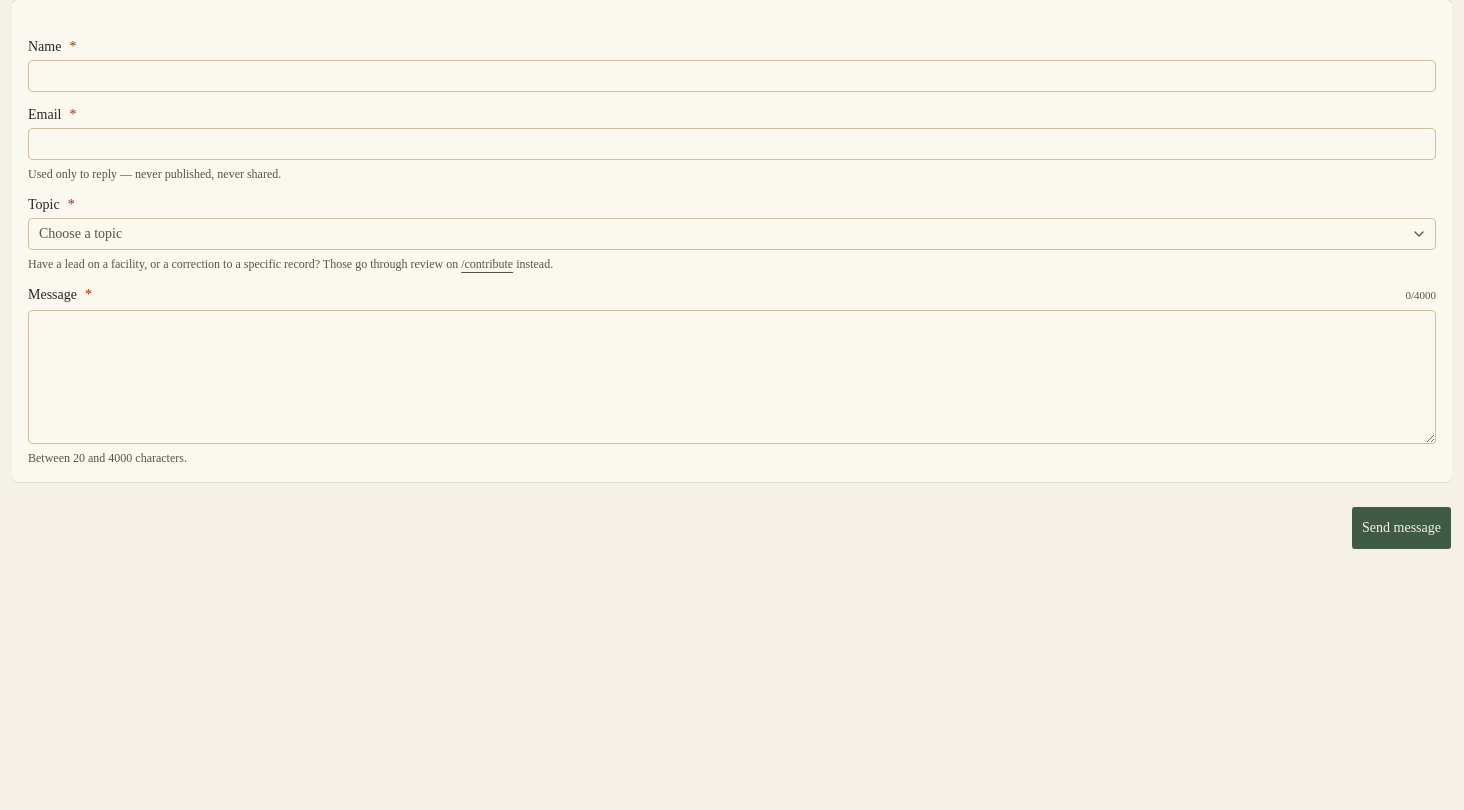
Test: ContactForm — submit outcomes › surfaces the rate-limit message from a 429 response
Type "Jane Reporter" into the field labelled "Name *". click: (732, 76)
box: [28,60,1436,92]
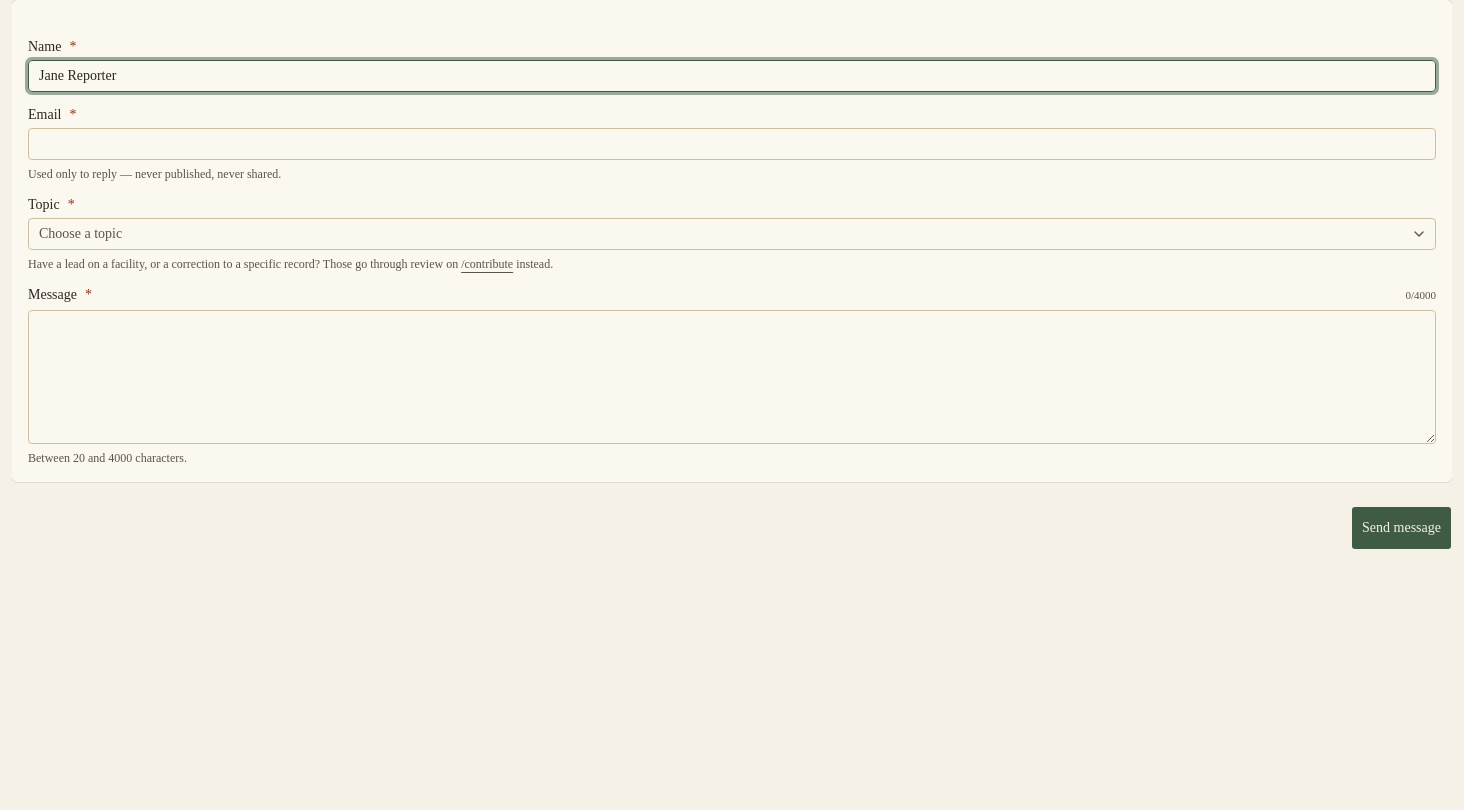
Type "jane@example.com" into the field labelled "Email *". click: (732, 144)
box: [28,128,1436,160]
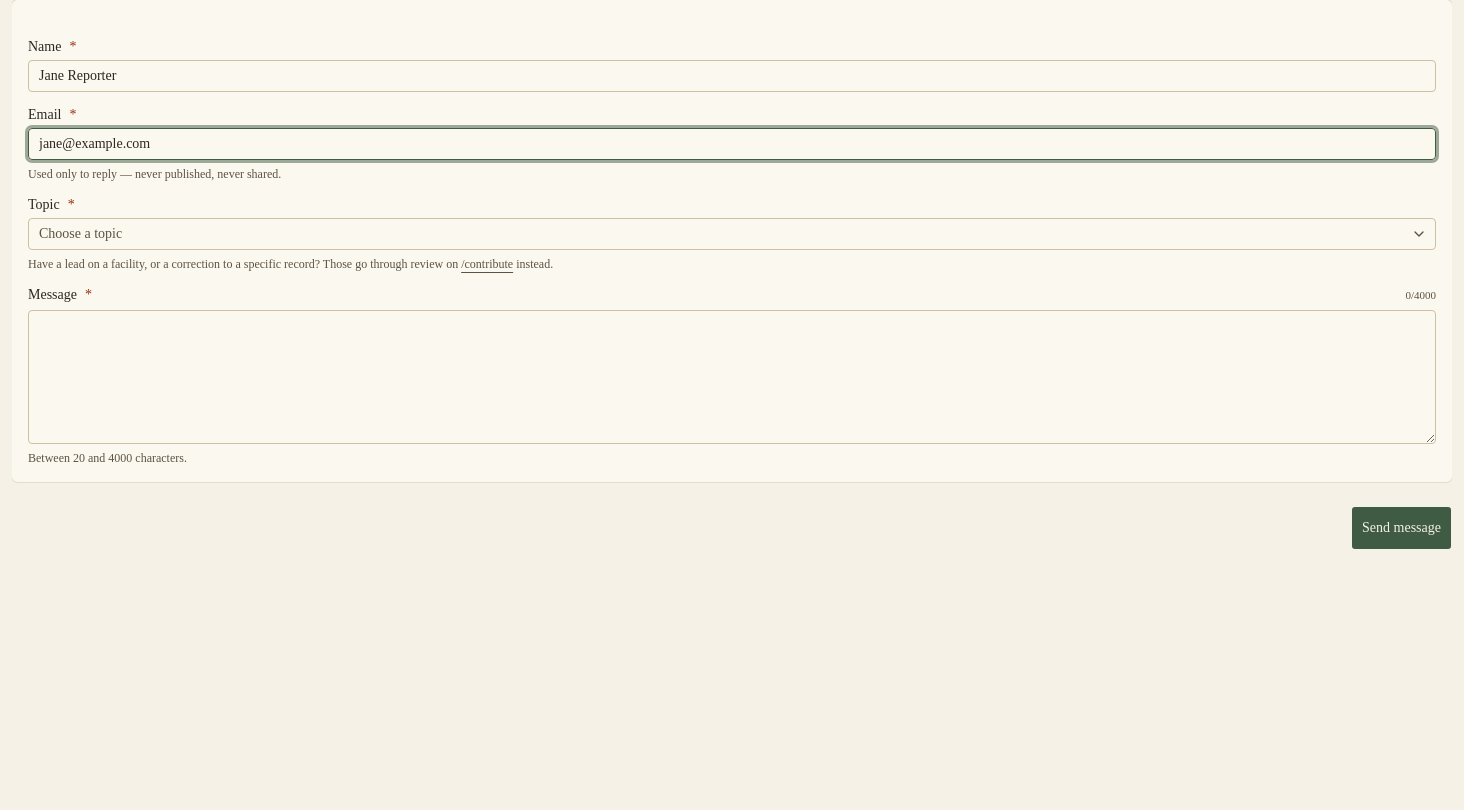
Click the dropdown labelled "Choose a topic ▼". click: click(81, 234)
box: [28,218,1436,250]
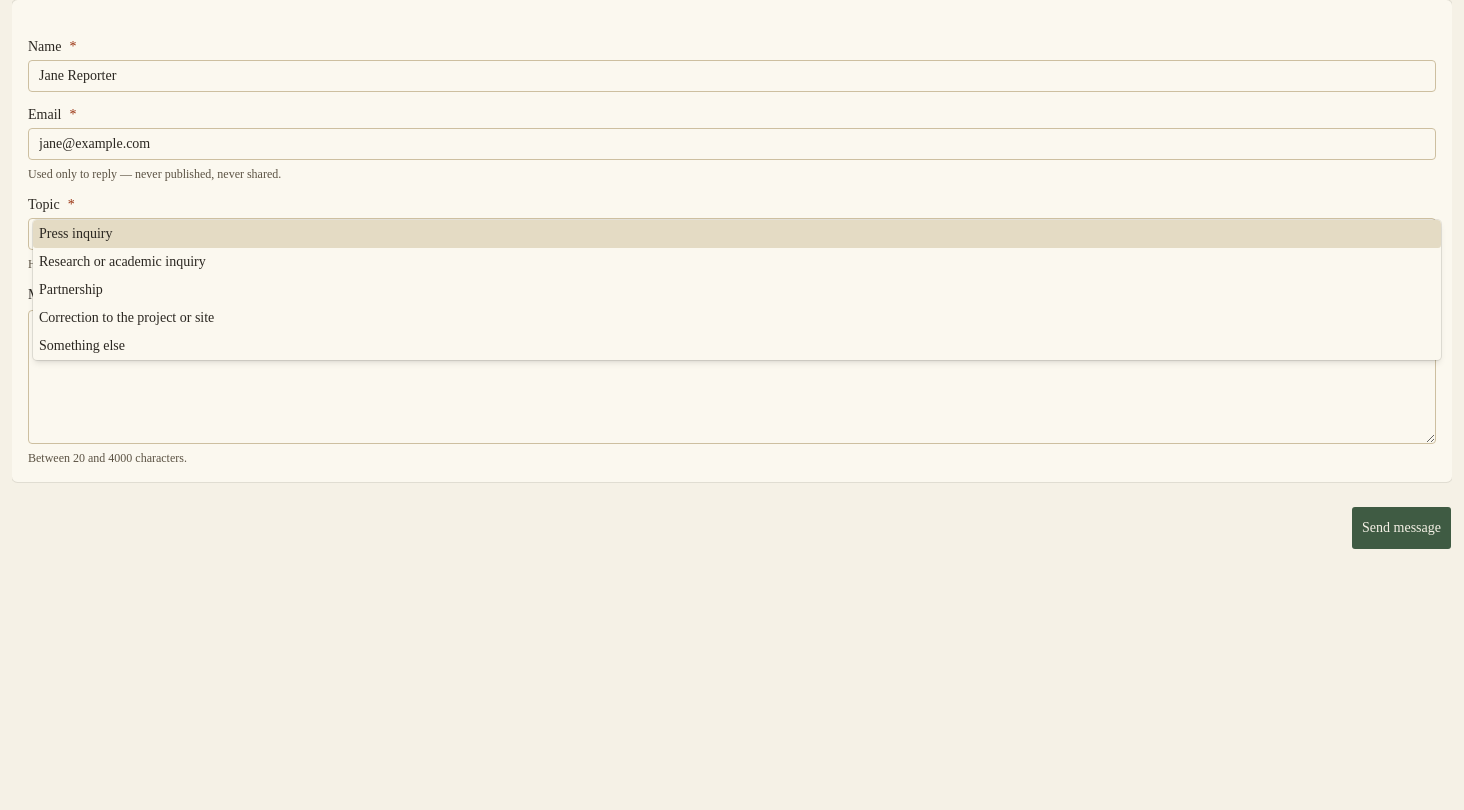
Click the option "Press inquiry". click: click(76, 234)
box: [33,220,1441,248]
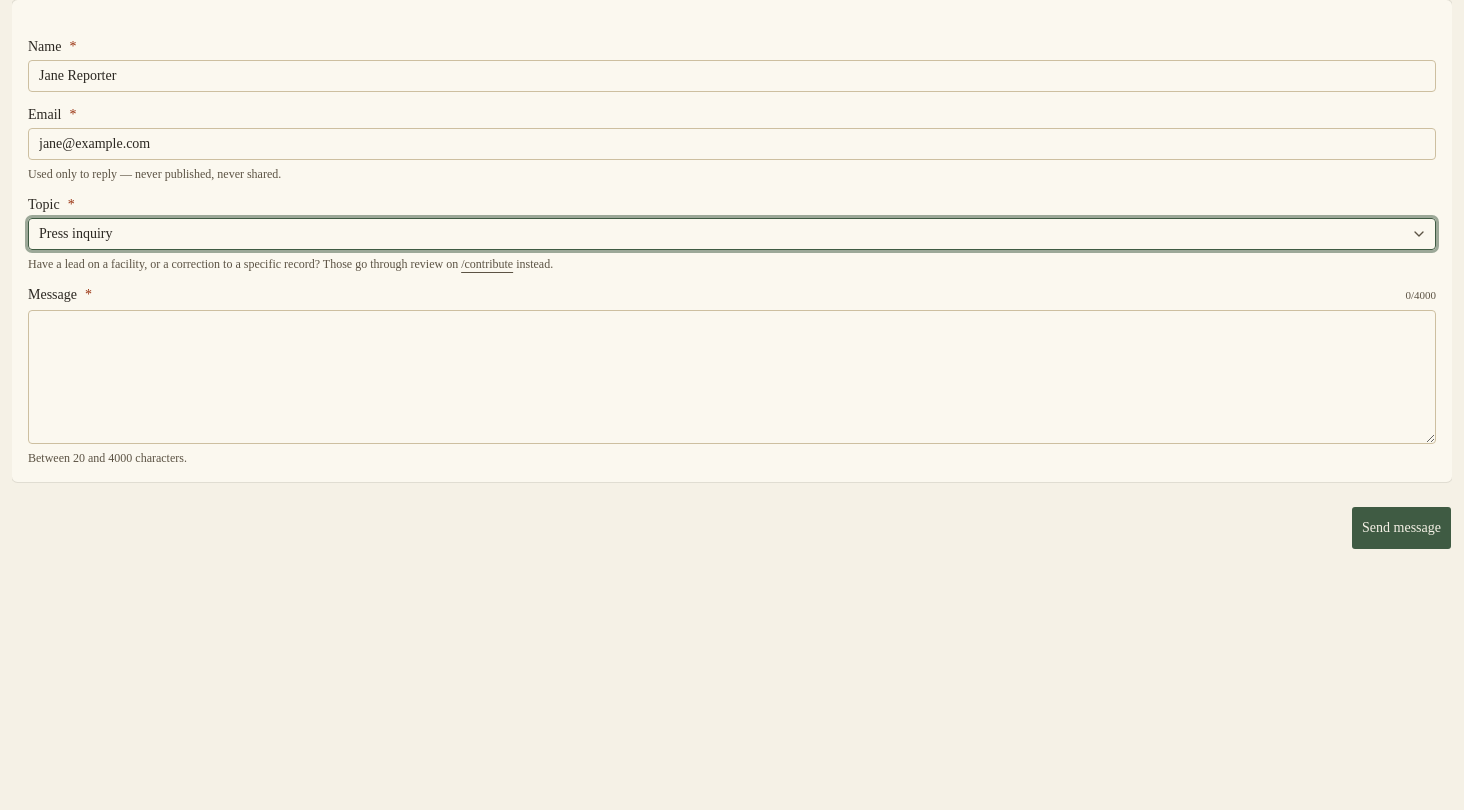
Type "I'm writing a story about data center siting and would like to talk." into the text box labelled "Message *". click: (732, 377)
box: [28,310,1436,444]
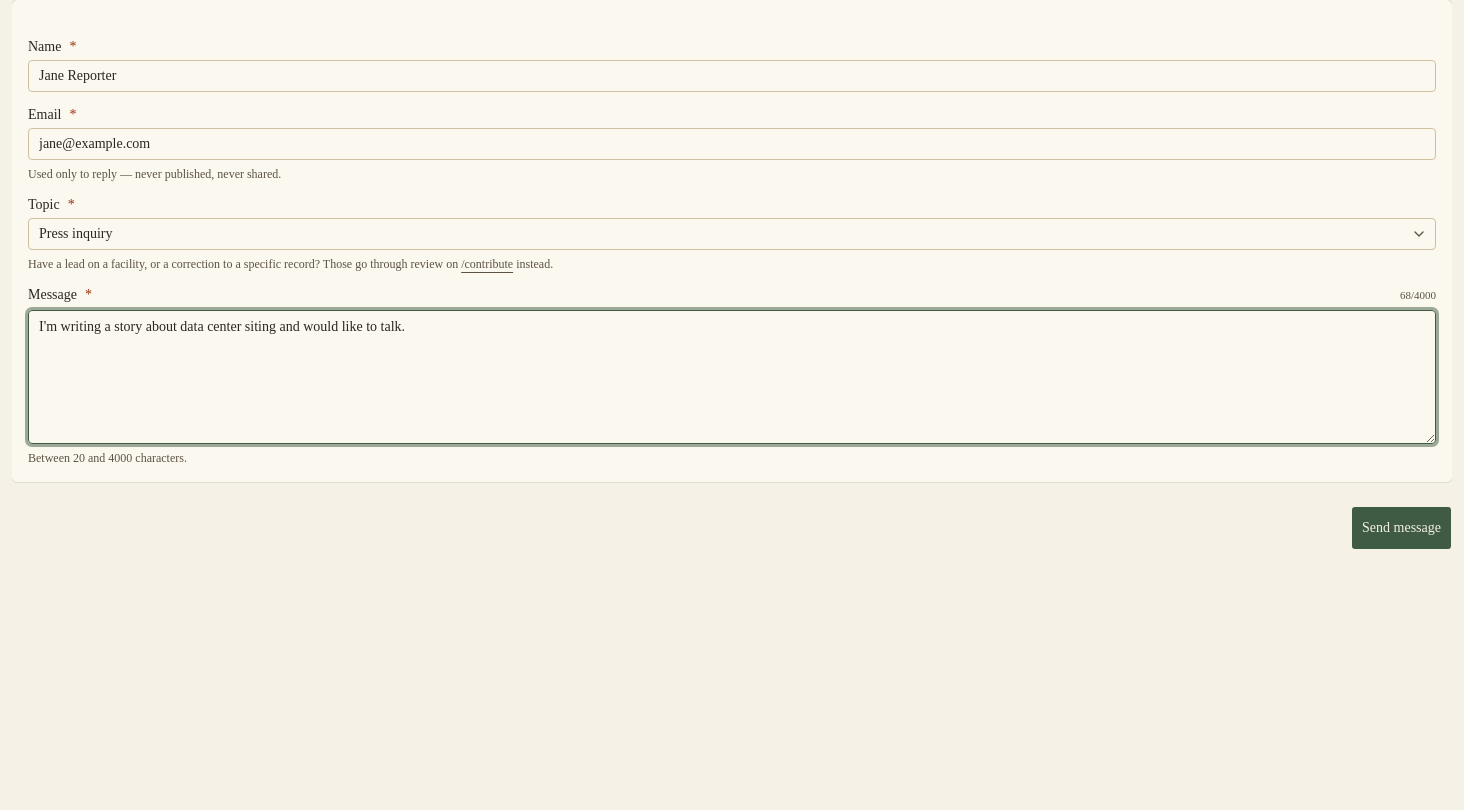
Click the button "Send message". click: click(1402, 528)
box: [1351,506,1452,550]
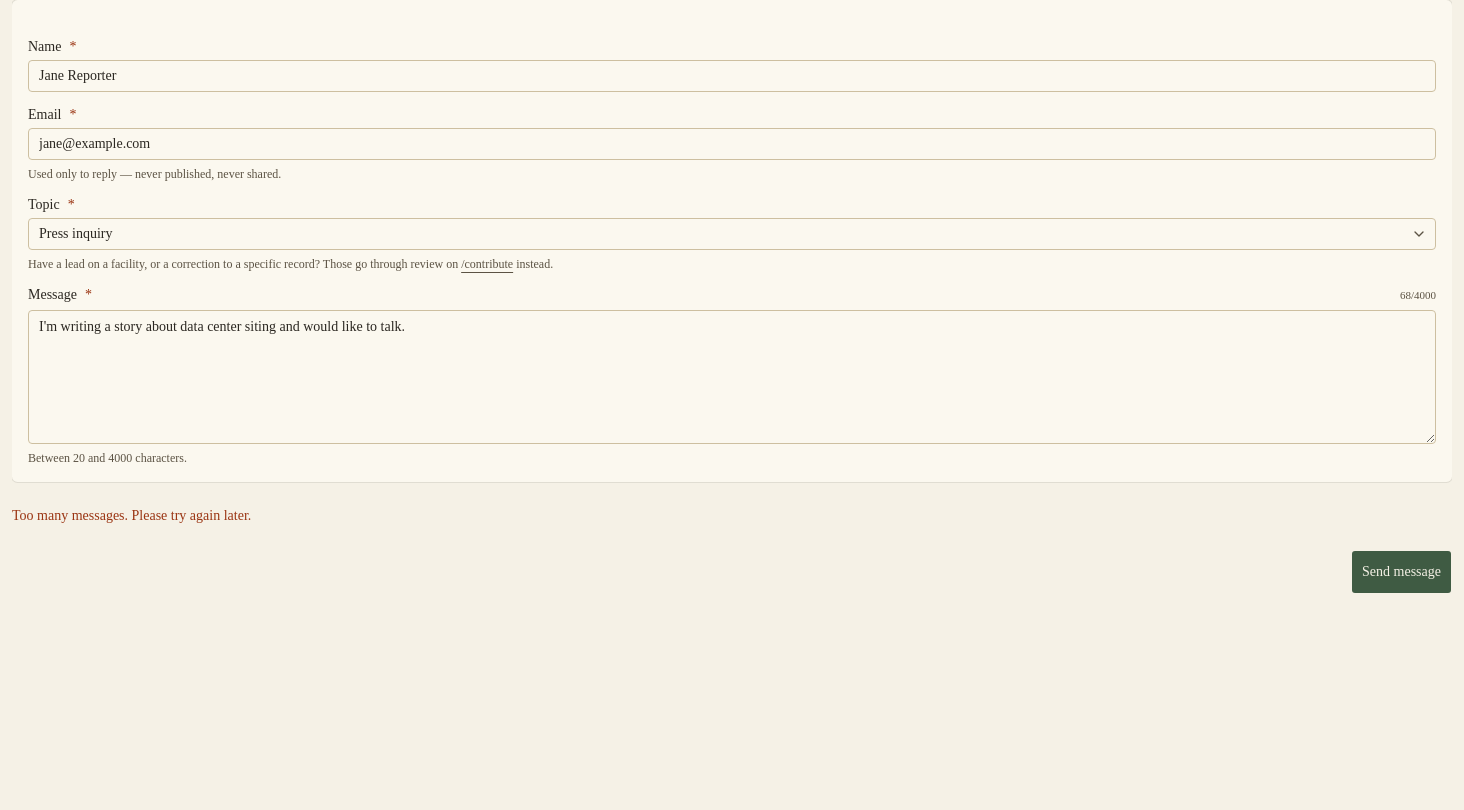
Check: the text "Too many messages. Please try again later." is shown, box [12,508,251,523]
